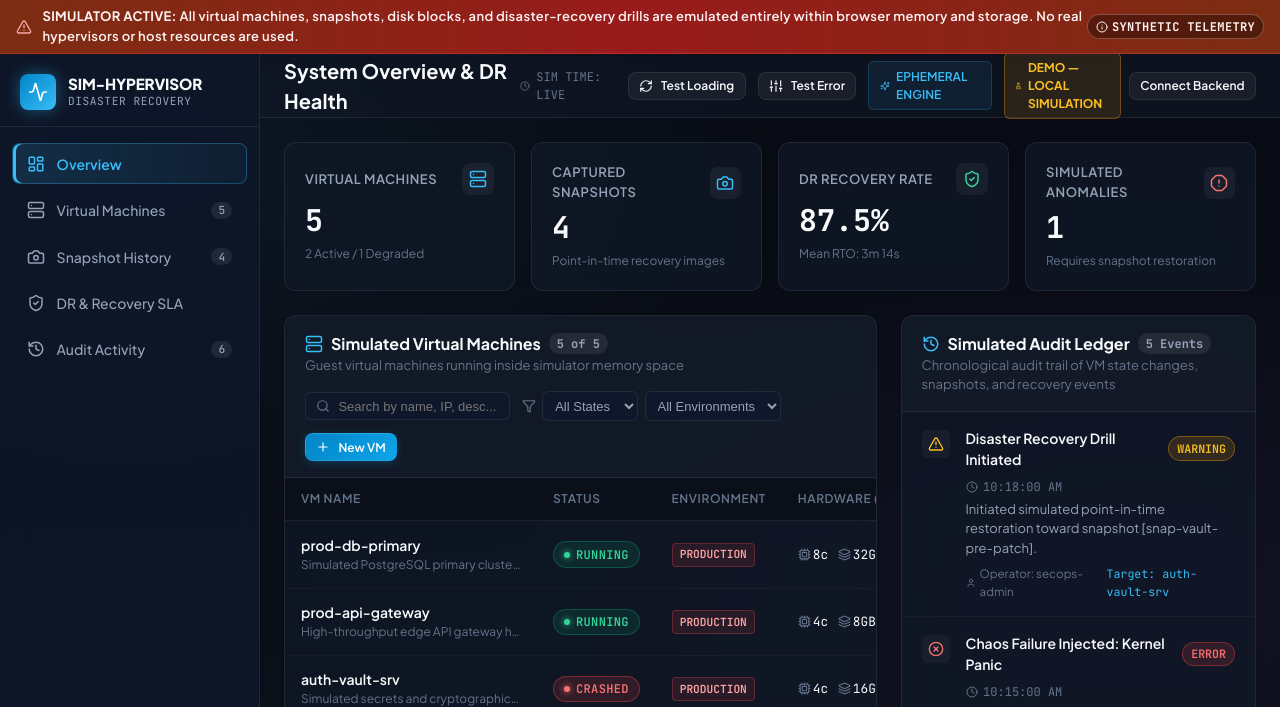
Test case: App Dashboard Shell & Navigation › navigates to Snapshot History view
This screenshot has width=1280, height=707.
Click the button with test id "nav-snapshots": (130, 256) [12,236,247,277]
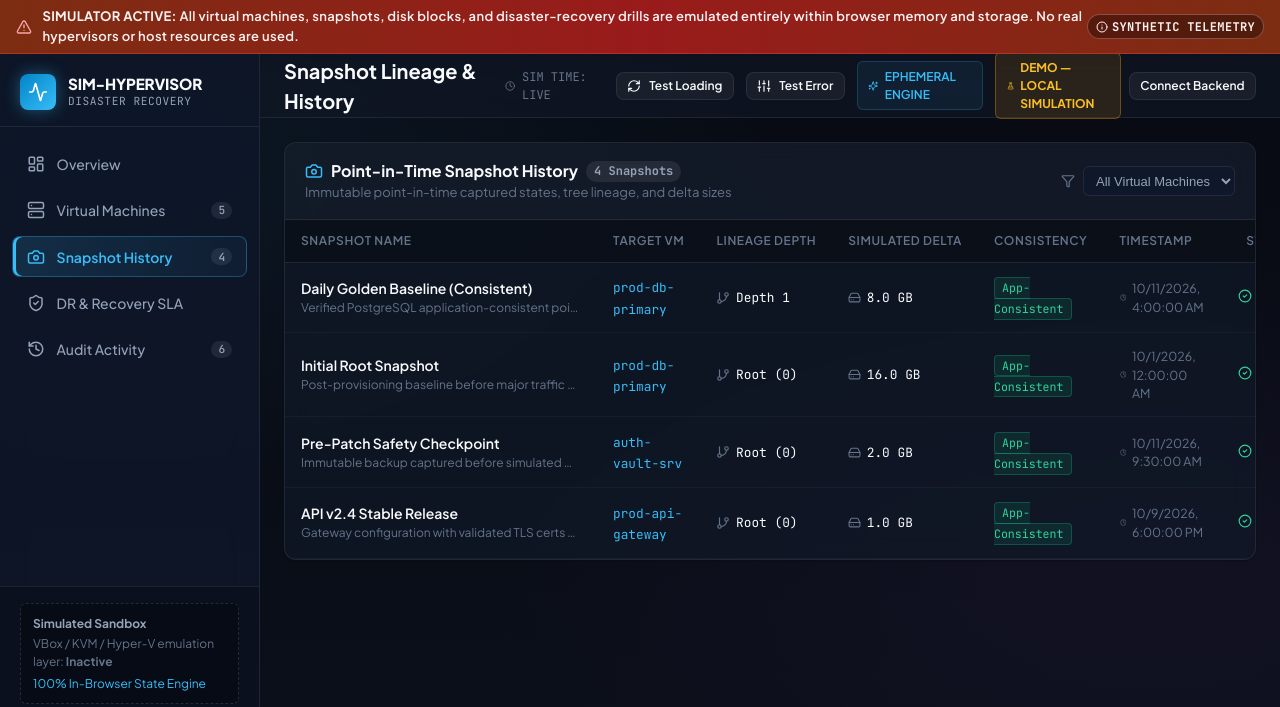
Now the heading "Snapshot Lineage & History" is shown, box [284,56,505,116]
Now the element with test id "snapshot-history-section" is shown, box [284,142,1256,560]
